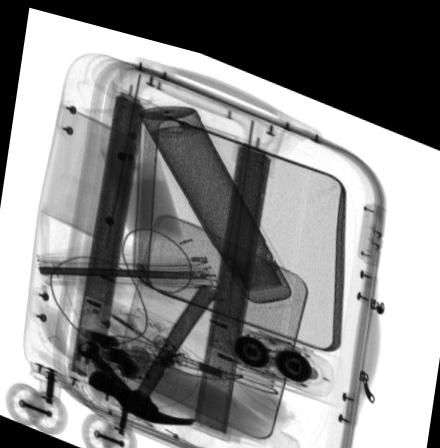Hammer: (88, 272, 218, 417)
Wrench: (78, 335, 160, 409)
